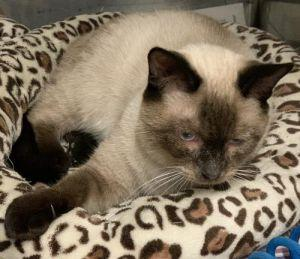siamese: (133, 33, 300, 200)
